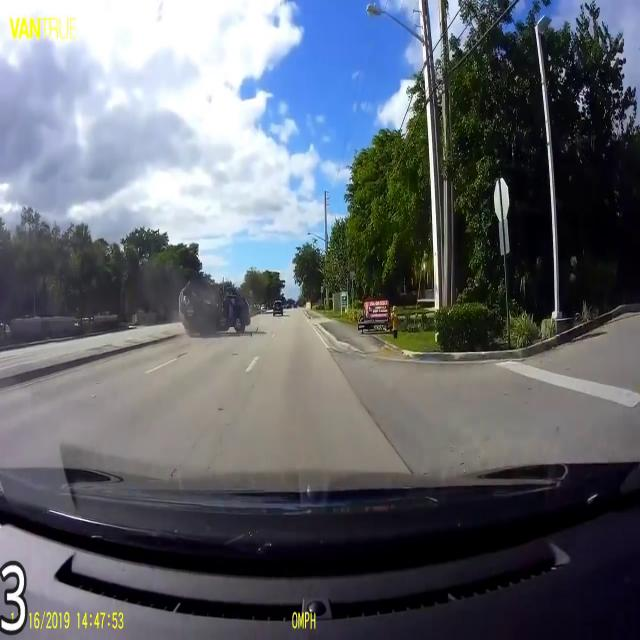accident: (183, 280, 251, 340), (174, 272, 224, 330)
